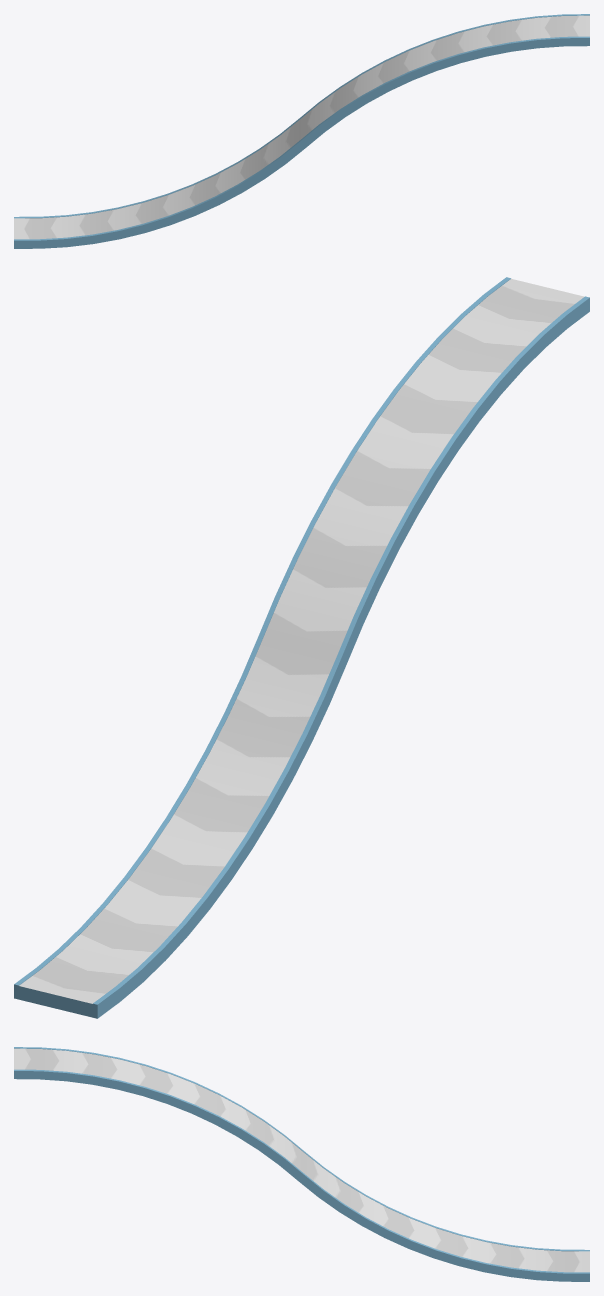
Rendered from platform_DOWN-3.fbx.
3 renders of one model, top to bottom at view 1: azimuth 90°, elevation 25°; view 2: azimuth 150°, elevation 25°; view 3: azimuth 270°, elevation 25°, orthographic. The views are drawn at different scales.
Visible parts, largest first — view 1: platform-down-3; view 2: platform-down-3; view 3: platform-down-3.
Boxes of the visible parts, <box> form: platform-down-3: <box>14,14,589,248</box>; platform-down-3: <box>14,277,589,1018</box>; platform-down-3: <box>14,1047,589,1281</box>.
Size of the model in its own units: 6.41 by 26.43 by 65.36.
